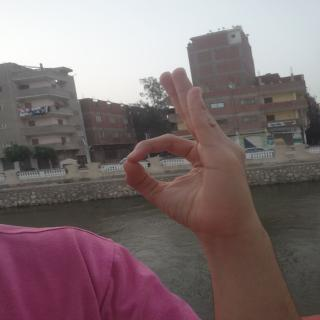Space: (120, 67, 257, 229)
